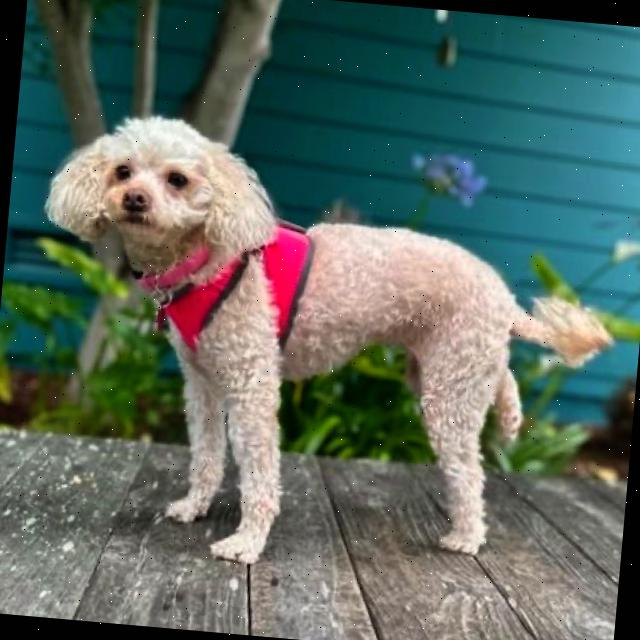Poodle_dog: (35, 93, 296, 294)
